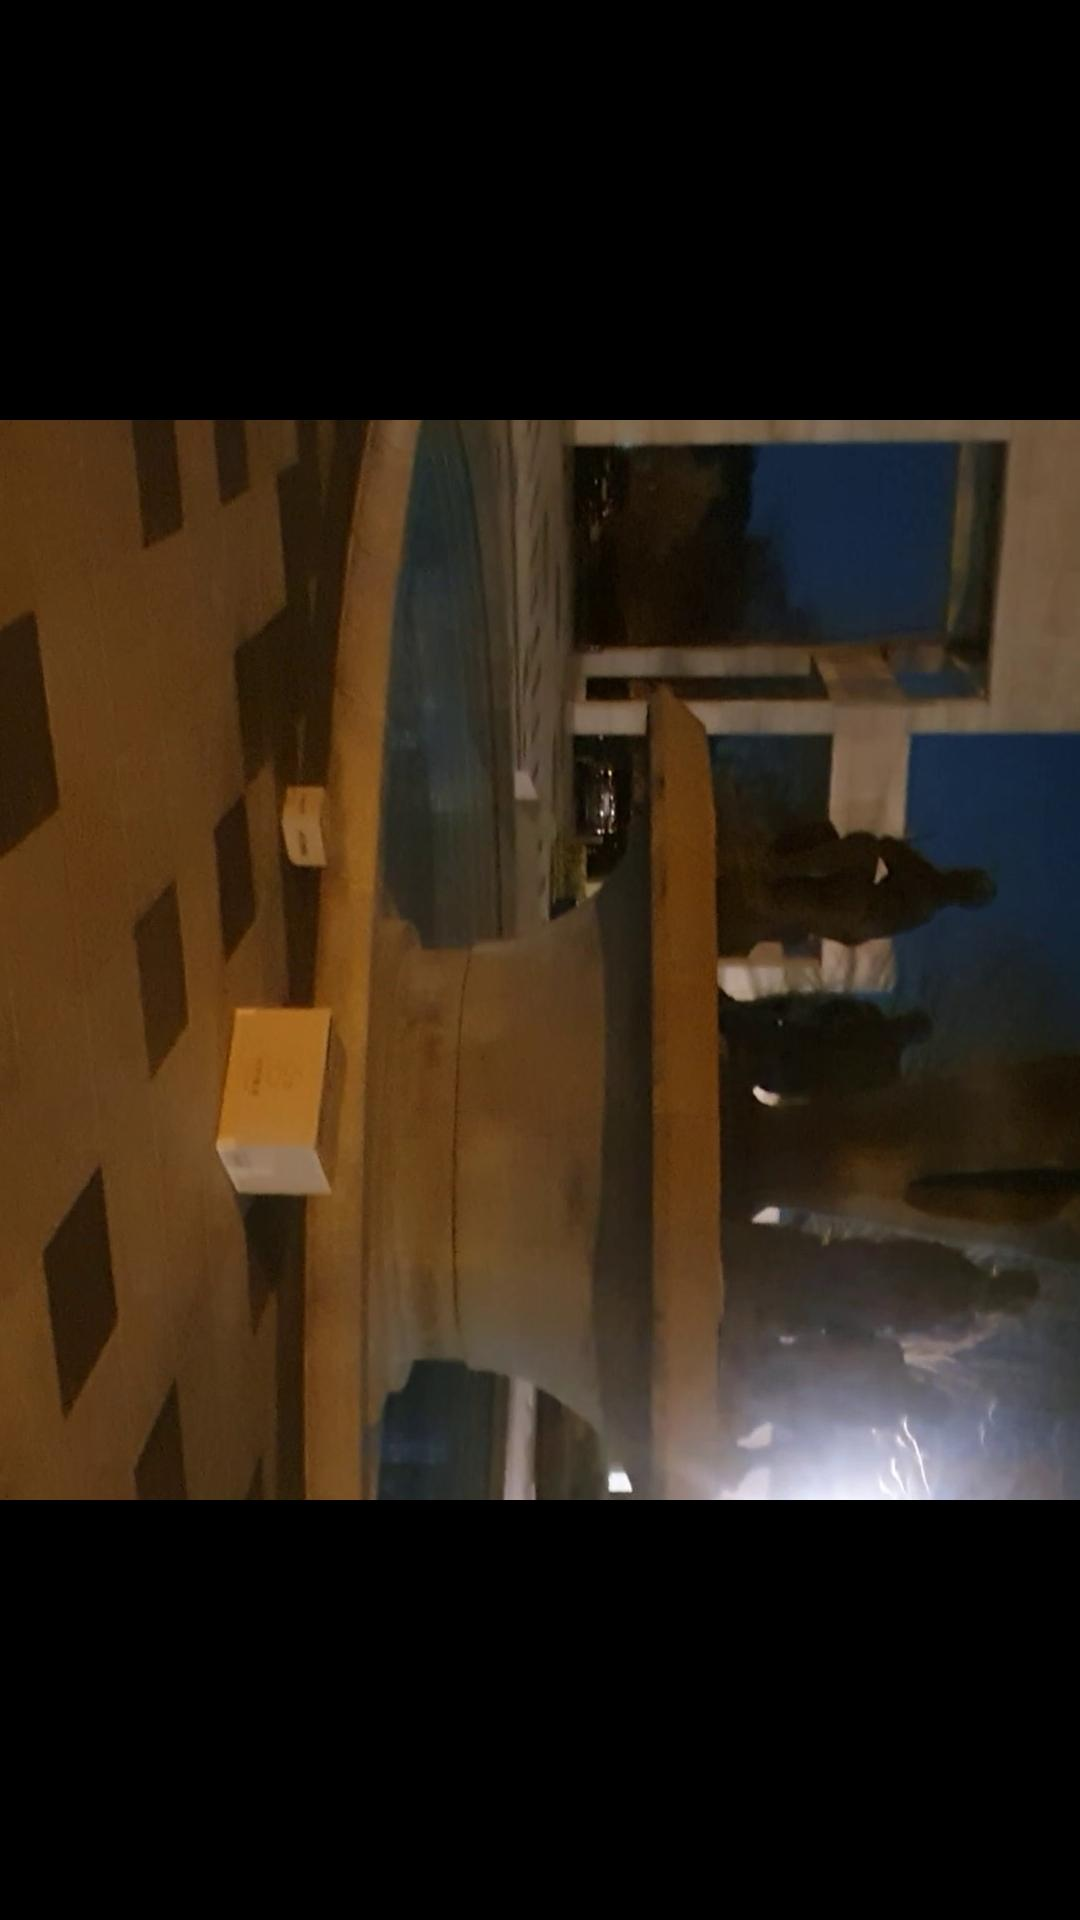Box: (204, 993, 352, 1207), (270, 773, 365, 899)
